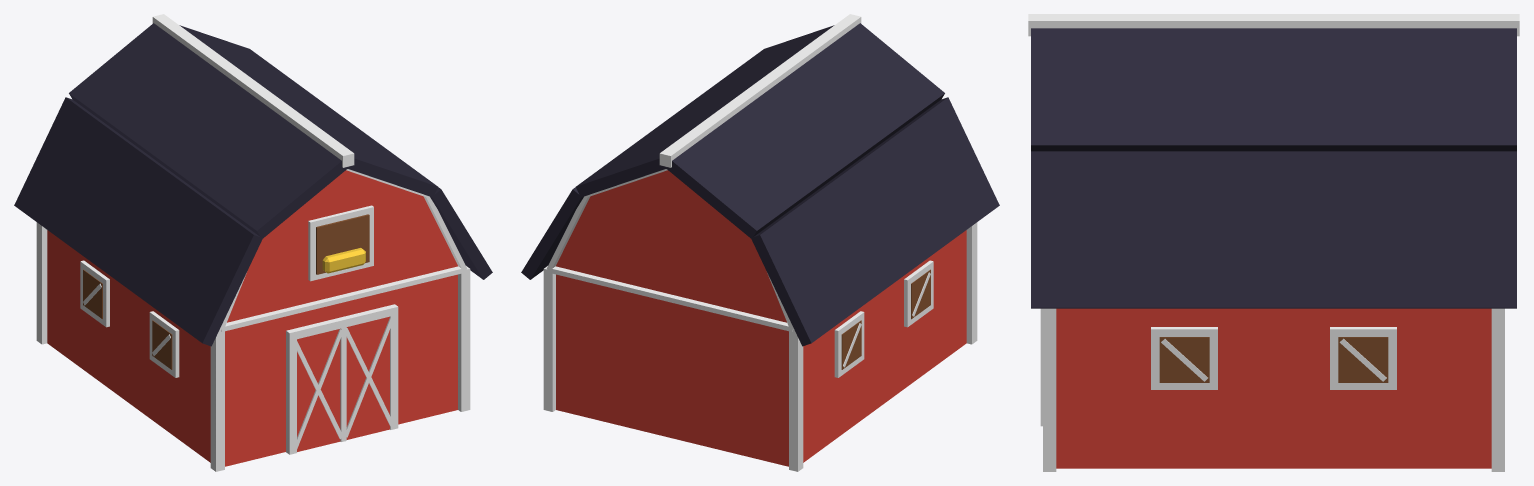
Rendered from barn.glb.
3 views of the same model, side by side, from view 1: azimuth 30°, elevation 25°; view 2: azimuth 150°, elevation 25°; view 3: azimuth 270°, elevation 25° (orthographic). The views are drawn at different scales.
Visible parts, largest first — view 1: barn; view 2: barn; view 3: barn.
Part boxes in pixels (x1,y1,x2,y2): barn: (14,14,492,471); barn: (521,14,999,471); barn: (1028,14,1519,471).
Bounding box in the file's own units: 7.75 × 7.4 × 8.8.
